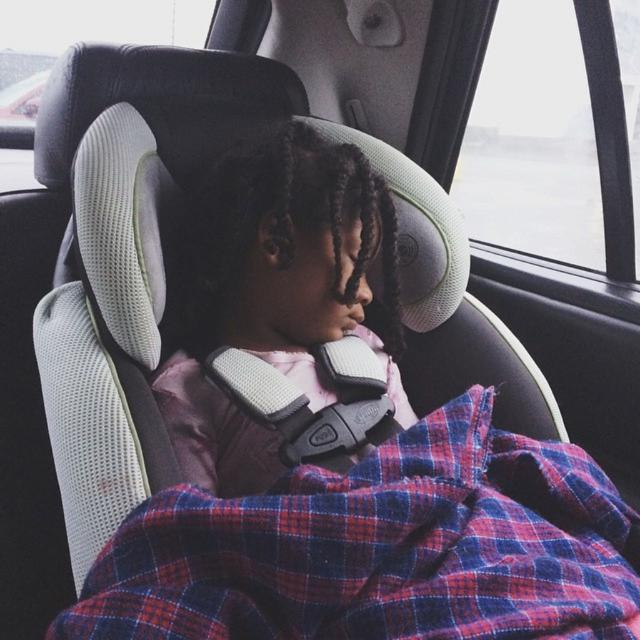Seatbelt: (190, 336, 406, 472)
